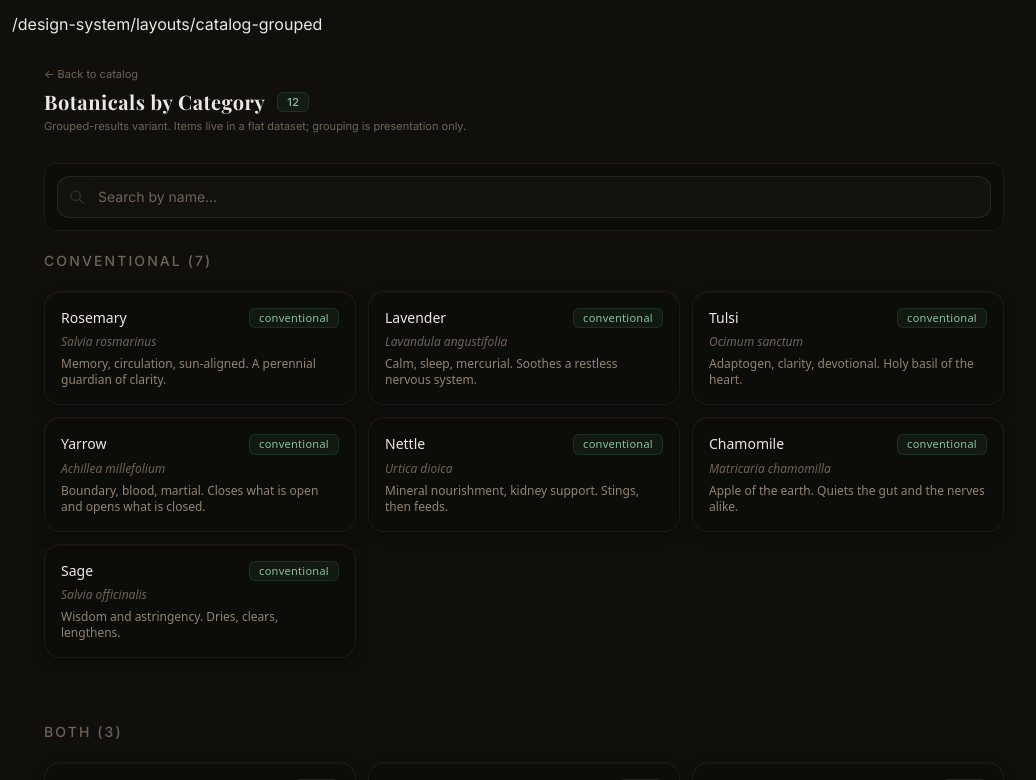
CatalogGroupedDemo — grouped-results variant of the canonical catalog › typing in the search narrows results and hides empty groups
The width and height of the screenshot is (1036, 780).
Type "datura" into the search field labelled "Search by name…".
click(524, 196); type("datura")  # box [57,176,991,218]
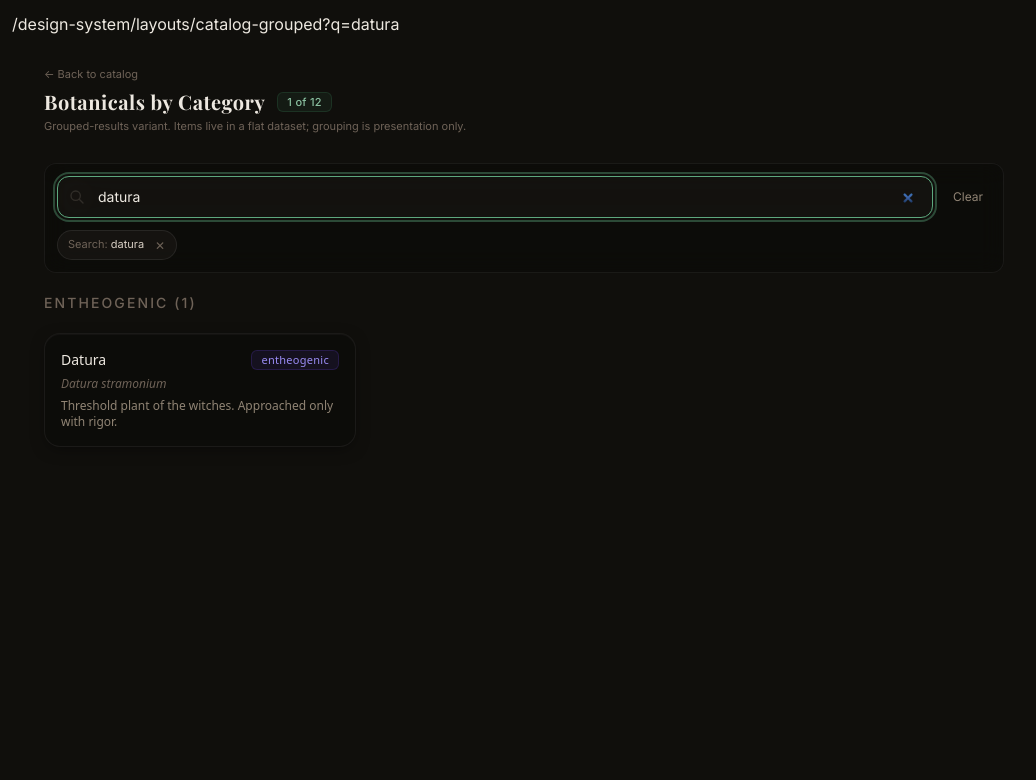
Expected: the heading "Entheogenic (1)" is shown, [44,294,197,310]
Expected: the text with test id "location-probe" shows "q=datura", [12,14,399,34]
Expected: the heading "Conventional" is gone
